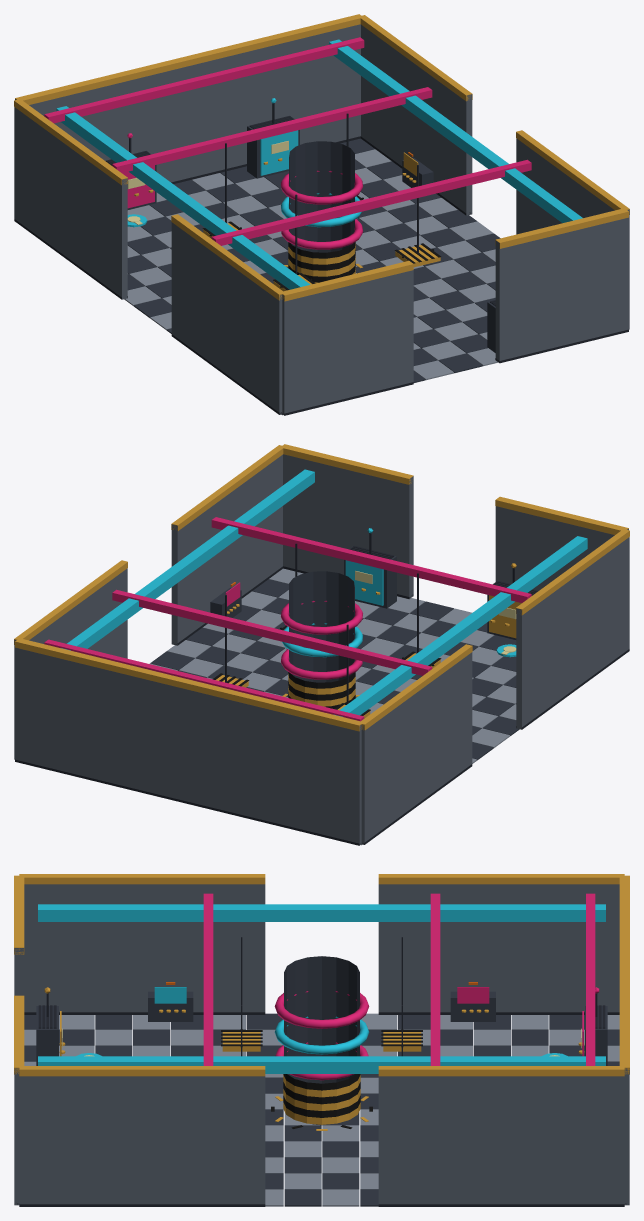
Rendered from machine_room.glb.
3 views of the same model, one above another, from view 1: azimuth 30°, elevation 25°; view 2: azimuth 150°, elevation 25°; view 3: azimuth 270°, elevation 25° (orthographic). The views are drawn at different scales.
Visible parts, largest first — view 1: machine_room; view 2: machine_room; view 3: machine_room.
Part boxes in pixels (bbox=[...]): machine_room: bbox=[14, 14, 629, 415]; machine_room: bbox=[14, 444, 629, 845]; machine_room: bbox=[14, 874, 629, 1206].
Bounding box in the file's own units: 24.45 × 8.13 × 32.55.
